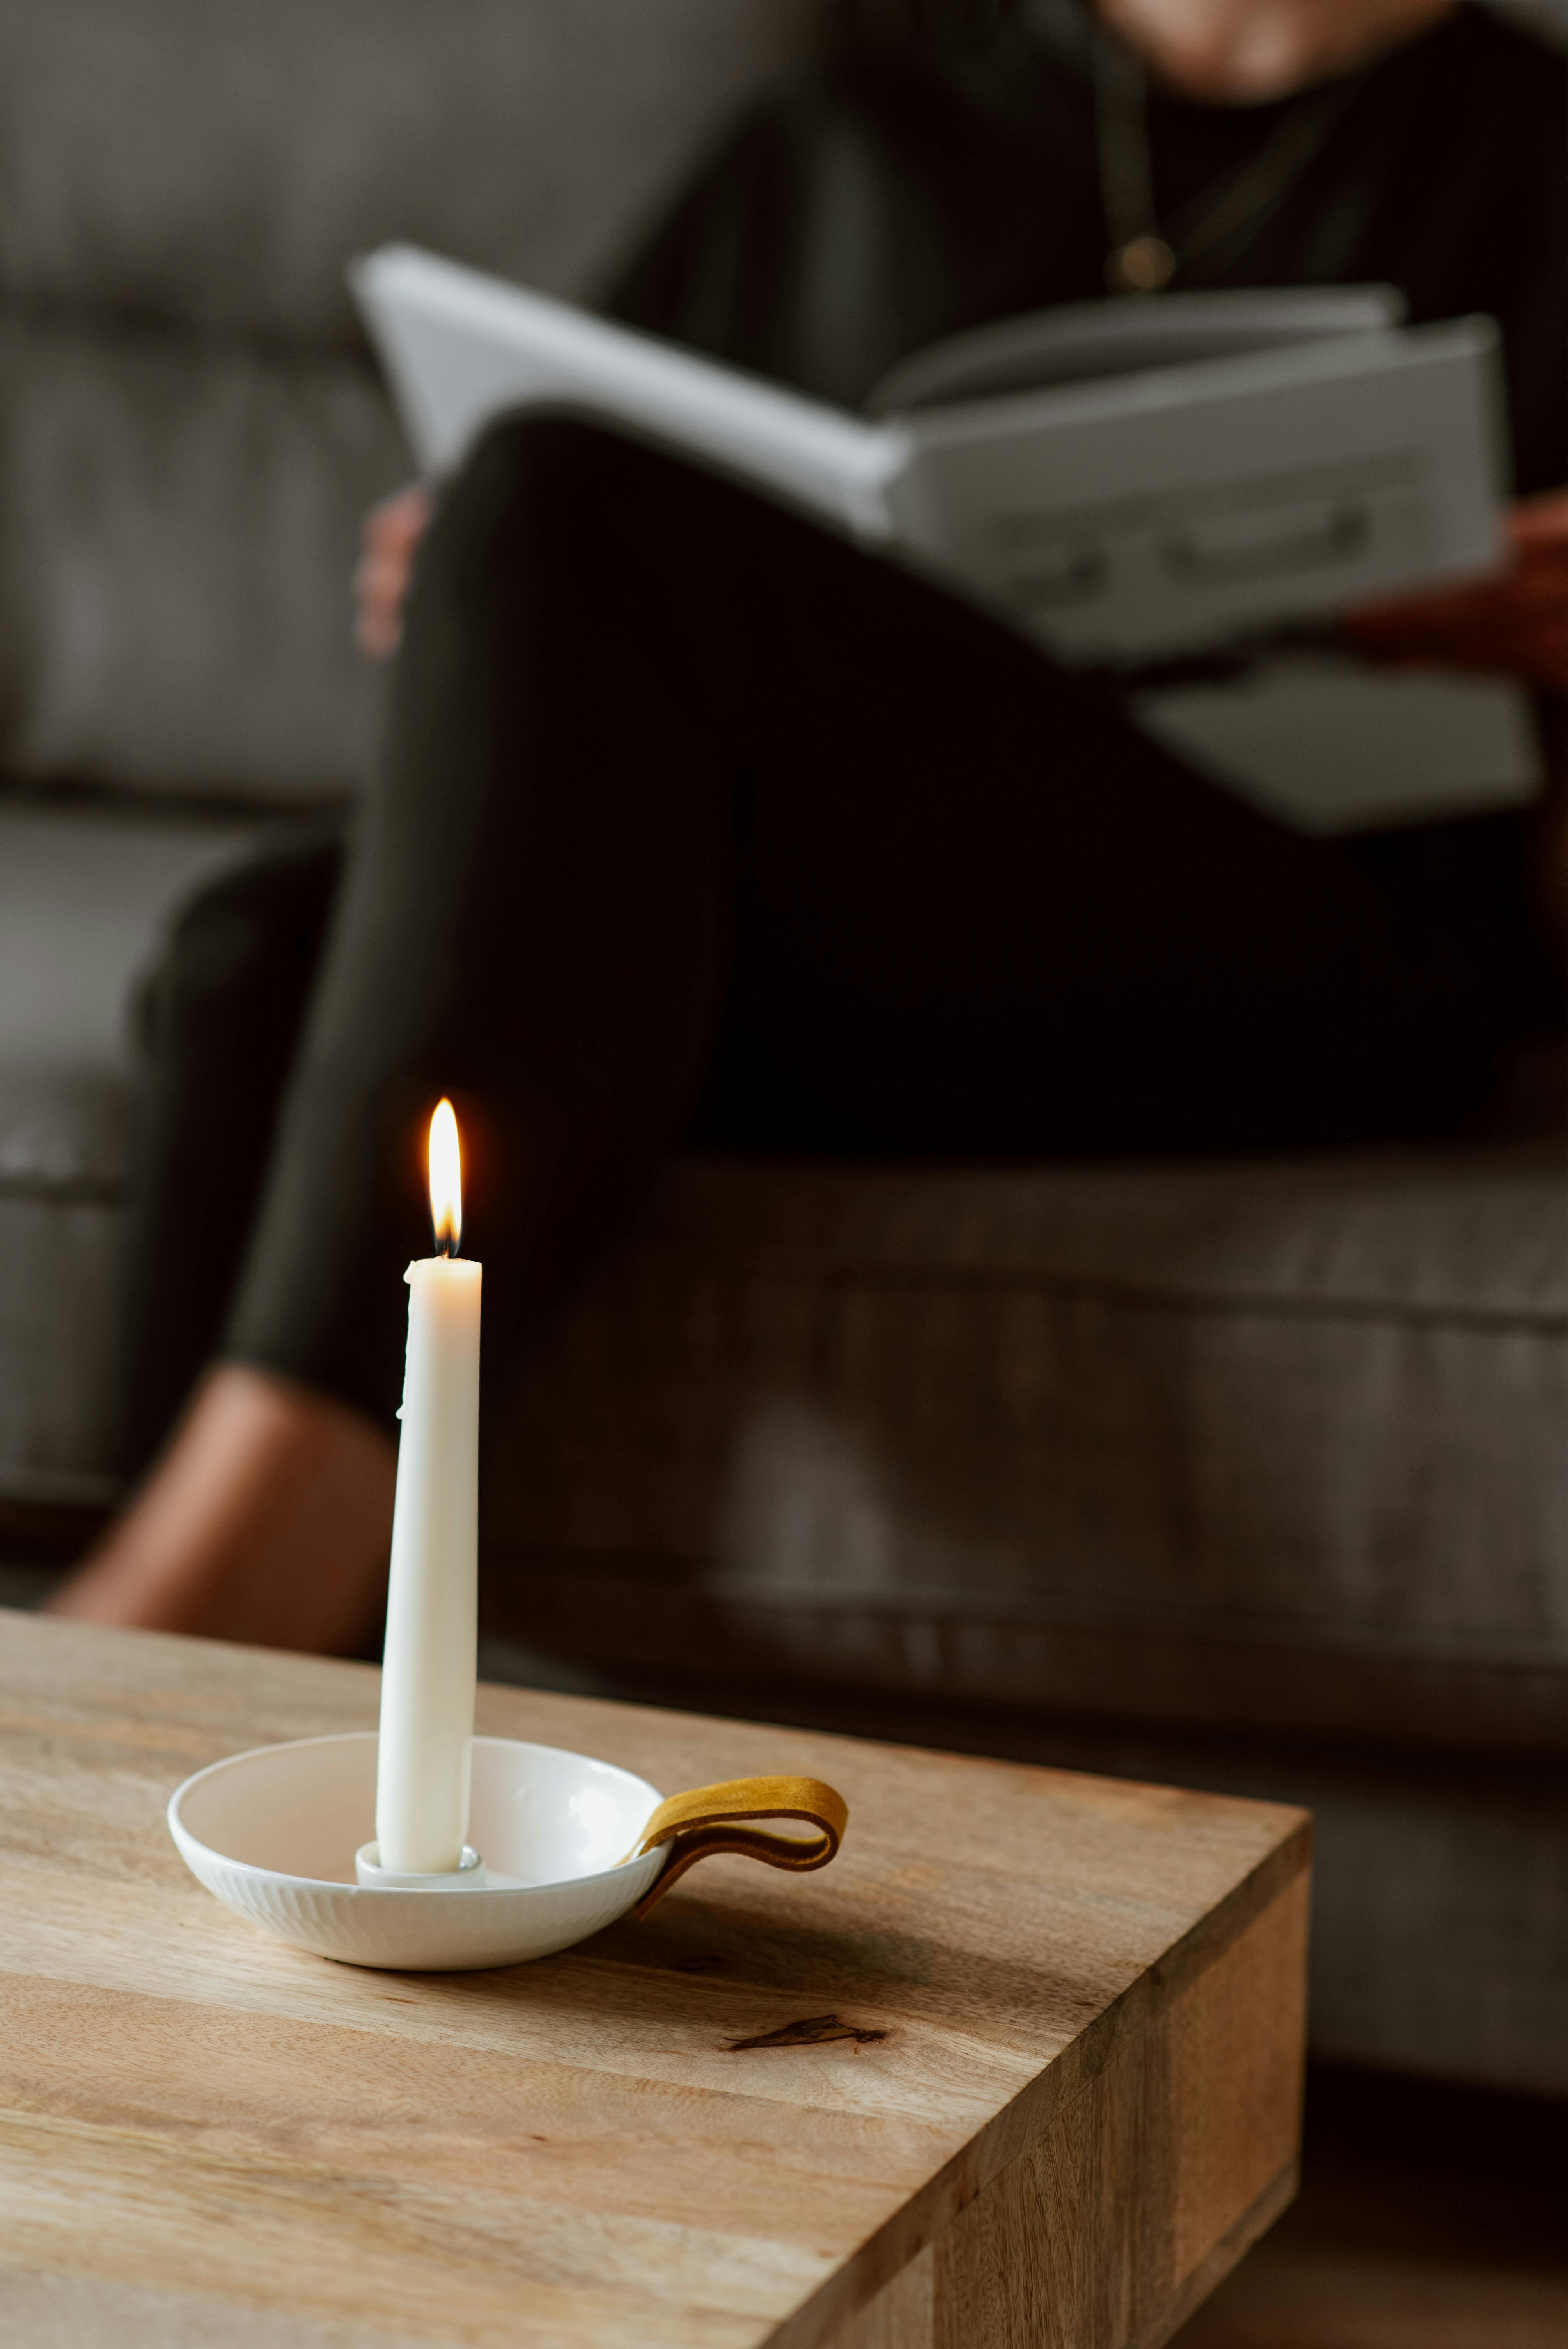Fire: (402, 1087, 493, 1245)
